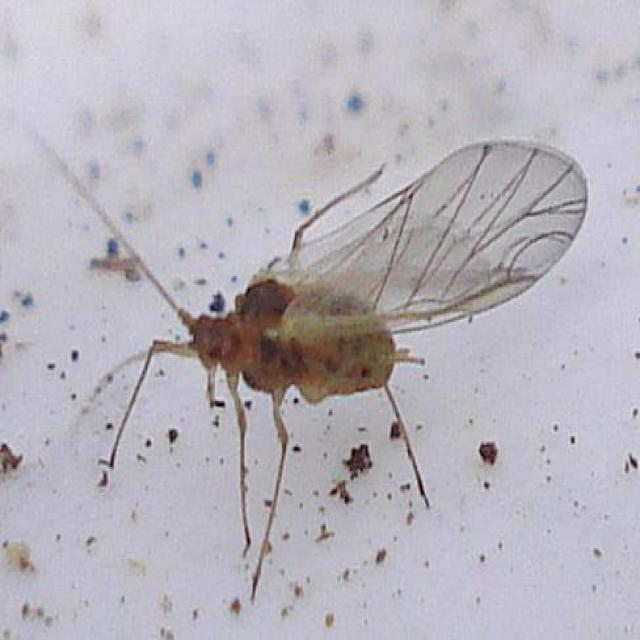Aphids: (50, 135, 587, 586)
